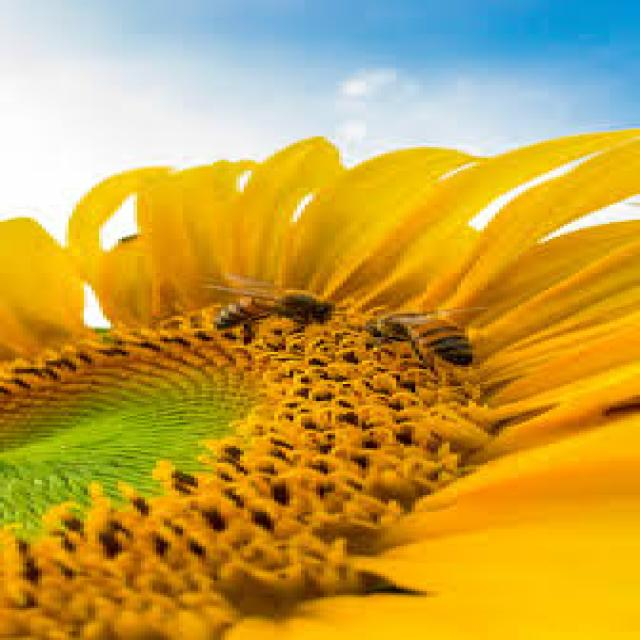sunflower: (7, 130, 640, 640)
